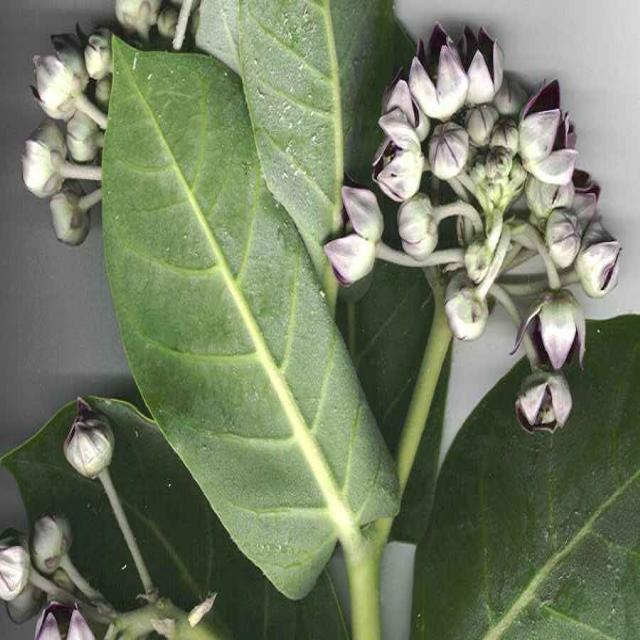Poisonous-Calatropis: (96, 1, 494, 608), (311, 16, 625, 438), (0, 389, 222, 640), (22, 0, 230, 259)
